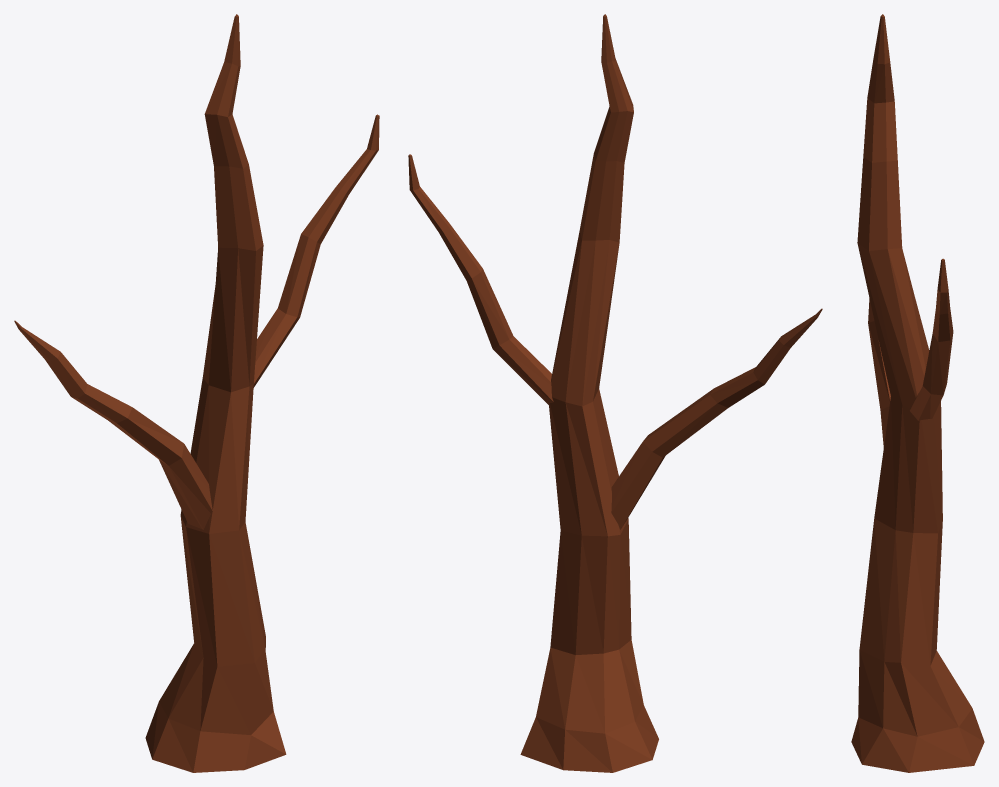
File: mediumTrunk.glb
The picture shows the model from 3 angles, left to right: view 1: azimuth 30°, elevation 25°; view 2: azimuth 150°, elevation 25°; view 3: azimuth 270°, elevation 25°; orthographic projection. The views are drawn at different scales.
Parts seen in each view (by area): view 1: Trunk.2; view 2: Trunk.2; view 3: Trunk.2.
Boxes of the visible parts, x1,y1,x2,y2 form: Trunk.2: (14, 14, 379, 772); Trunk.2: (408, 14, 822, 772); Trunk.2: (851, 14, 984, 772).
Bounding box in the file's own units: 3.06 × 5.49 × 0.9058.
